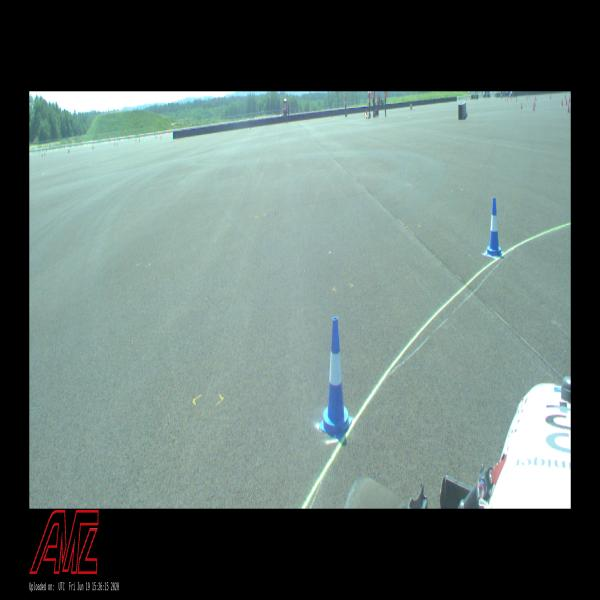blue_cone: (318, 317, 352, 439), (485, 197, 503, 258)
